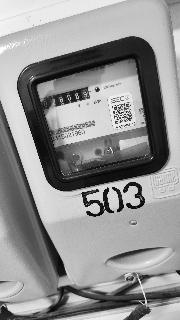1: (44, 101, 48, 107), (67, 95, 71, 101)
3: (52, 99, 56, 105)
9: (59, 97, 63, 103), (75, 93, 79, 99)
:: (83, 92, 87, 98)
